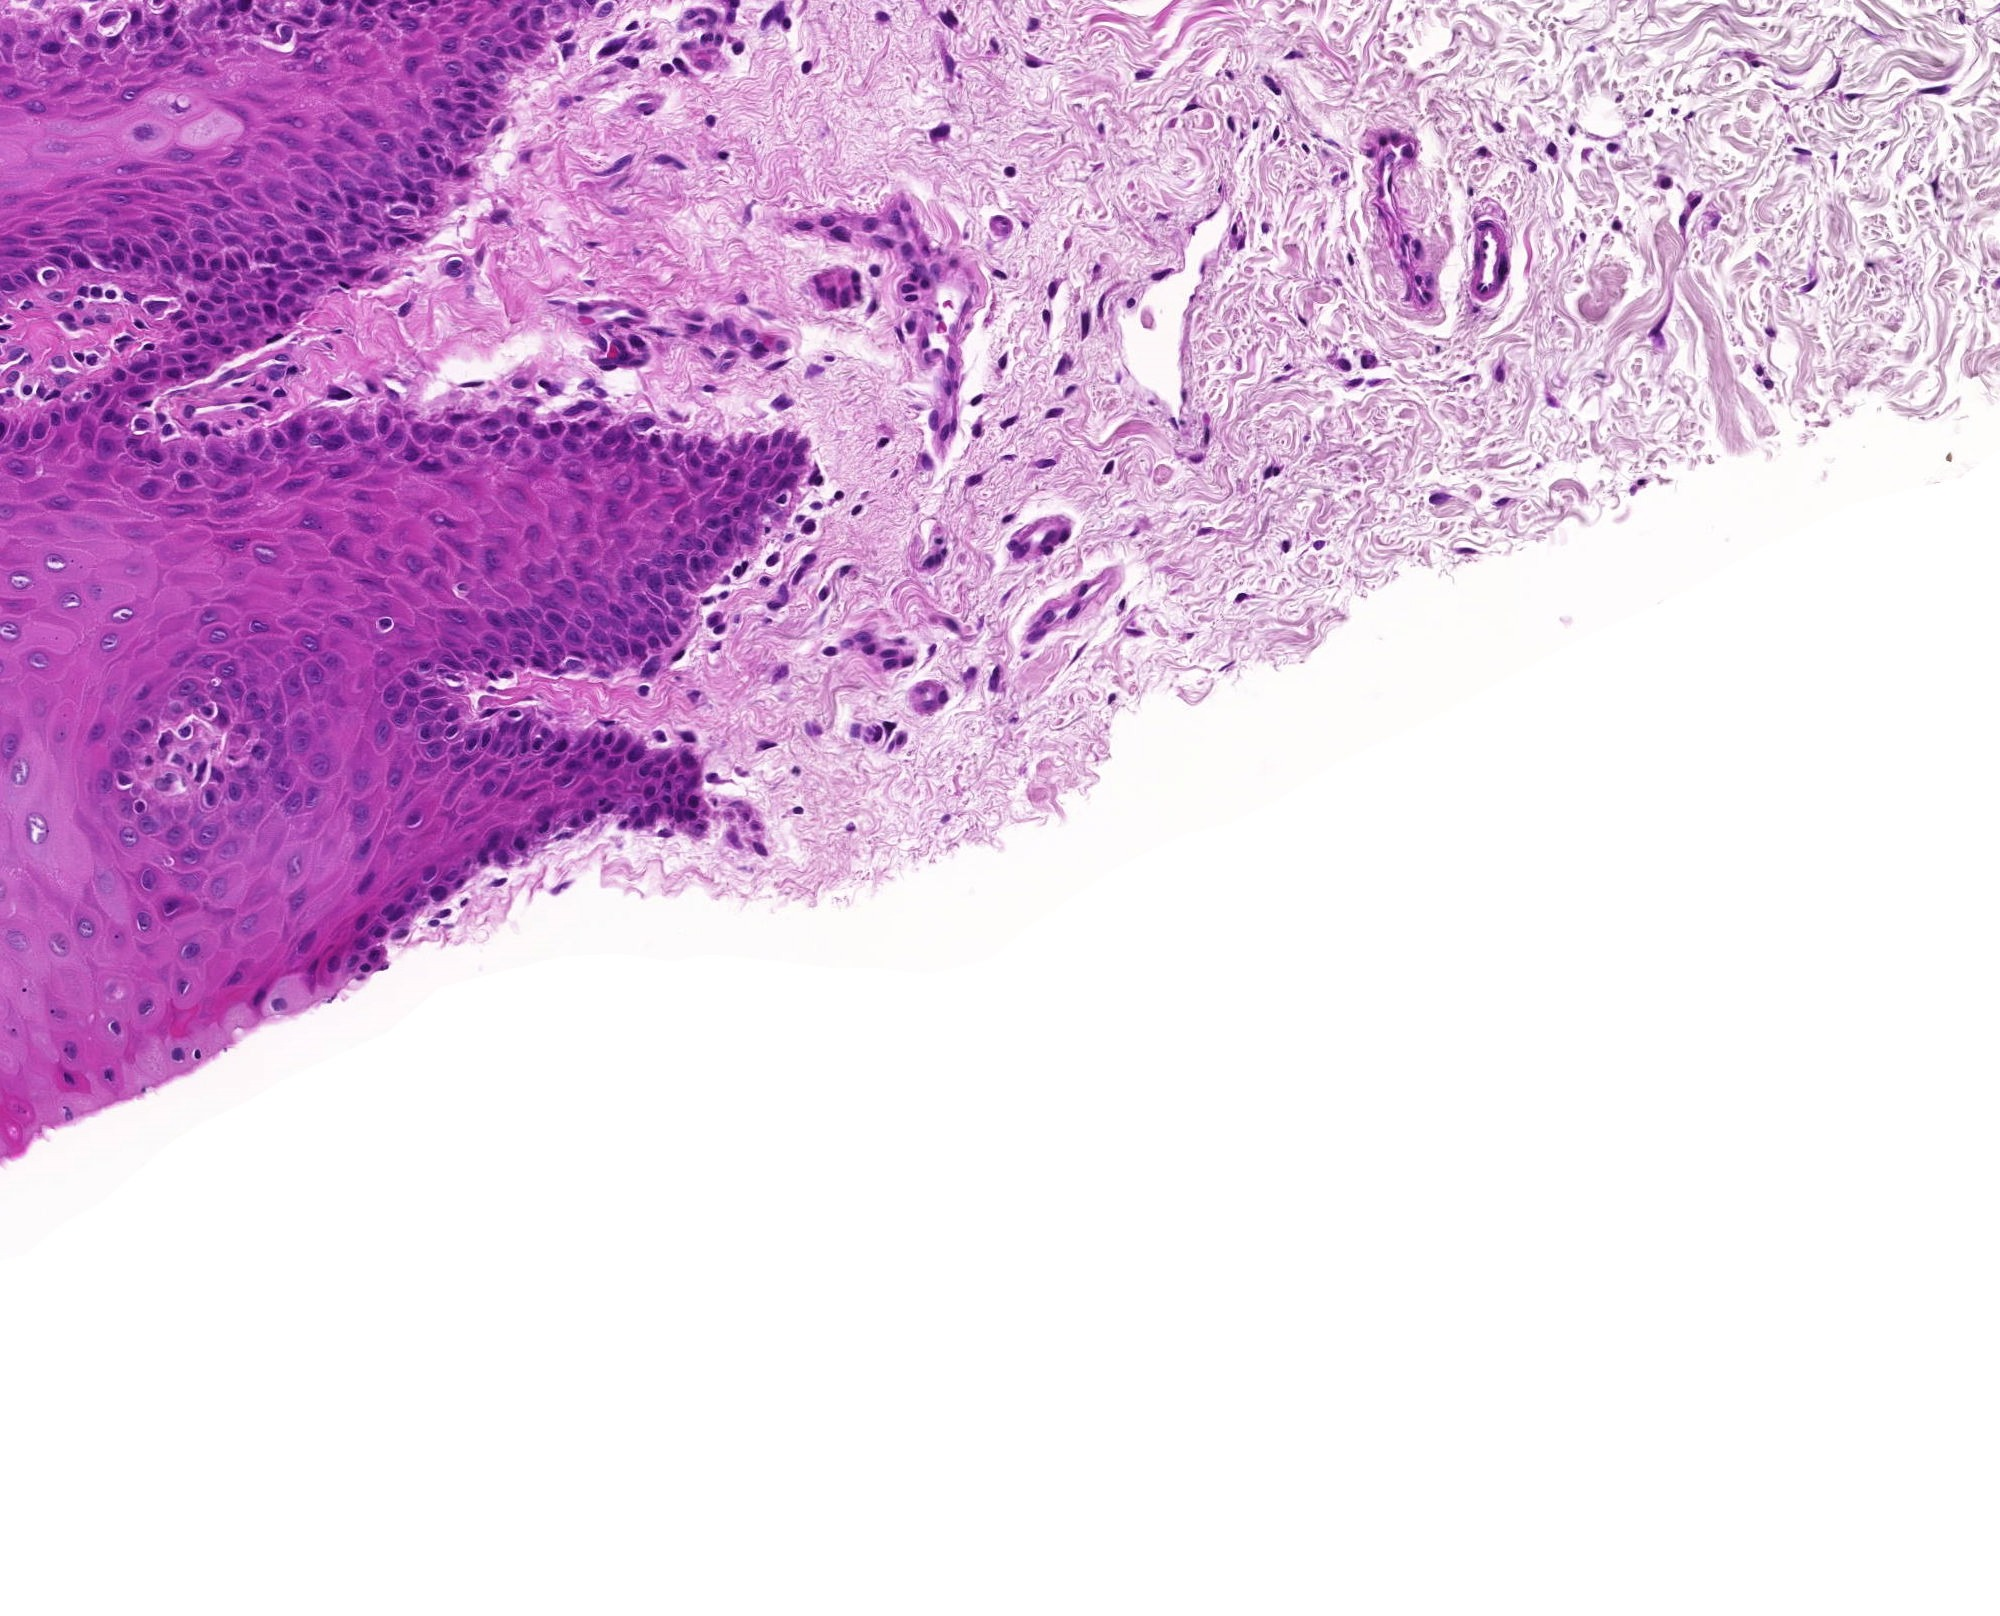epithelial: (125, 384, 160, 417), (257, 284, 290, 318), (477, 602, 509, 637), (157, 356, 190, 389), (425, 87, 458, 120), (96, 401, 129, 434), (170, 462, 203, 495), (424, 417, 457, 450), (120, 378, 153, 411), (173, 323, 206, 356), (102, 233, 135, 265), (270, 284, 303, 317), (82, 378, 115, 411), (280, 233, 313, 265), (91, 241, 124, 274), (198, 247, 231, 280), (185, 302, 218, 335), (473, 420, 506, 453), (340, 201, 373, 234), (411, 417, 444, 450), (350, 7, 383, 40), (186, 282, 219, 315), (219, 449, 252, 482), (452, 91, 485, 124), (308, 196, 341, 229), (290, 25, 323, 58), (163, 346, 196, 379), (262, 300, 295, 333), (373, 181, 406, 214), (228, 307, 261, 340), (124, 435, 157, 468), (229, 326, 262, 359), (64, 208, 97, 241), (201, 440, 234, 473), (109, 242, 142, 275), (180, 265, 213, 298), (115, 150, 148, 183), (384, 195, 417, 228), (152, 2, 185, 35), (477, 33, 509, 66), (289, 419, 322, 452), (163, 139, 196, 171), (251, 275, 284, 308), (91, 391, 124, 424), (41, 411, 74, 444), (170, 312, 203, 345), (439, 115, 472, 148), (259, 214, 292, 247), (115, 229, 148, 262), (16, 16, 49, 49), (468, 722, 501, 755), (378, 897, 411, 930), (350, 866, 383, 899), (293, 505, 326, 538), (290, 923, 323, 956), (358, 938, 391, 971), (218, 775, 251, 808), (477, 650, 509, 683), (412, 856, 445, 889), (175, 838, 208, 871), (463, 637, 496, 669), (345, 927, 378, 960), (297, 950, 330, 983), (130, 806, 163, 839), (340, 947, 373, 979), (439, 861, 472, 894), (368, 645, 401, 678), (346, 914, 379, 947), (472, 696, 505, 729), (354, 910, 387, 943), (407, 750, 440, 783), (468, 707, 501, 740), (458, 739, 491, 772), (115, 721, 148, 754), (285, 722, 318, 755), (425, 691, 458, 724), (358, 923, 391, 956), (458, 648, 491, 681), (605, 420, 638, 453), (557, 412, 590, 445), (513, 26, 546, 59), (625, 439, 658, 472), (905, 264, 938, 297), (823, 280, 856, 313), (762, 420, 795, 453), (772, 424, 805, 457), (767, 473, 800, 506), (673, 429, 706, 462), (722, 445, 755, 478), (899, 257, 932, 290), (772, 439, 805, 472), (754, 458, 786, 491), (643, 434, 676, 467), (880, 203, 913, 236), (514, 12, 547, 45), (617, 427, 650, 460), (697, 435, 730, 468), (684, 546, 717, 579), (523, 643, 556, 676), (528, 806, 561, 839), (508, 711, 541, 744), (636, 795, 669, 828), (630, 754, 663, 787), (627, 805, 660, 838), (664, 780, 697, 813), (500, 706, 533, 739), (529, 796, 562, 829), (663, 543, 696, 575), (539, 602, 572, 635), (683, 528, 716, 561), (683, 810, 716, 843), (651, 518, 684, 551), (602, 740, 635, 773), (678, 551, 711, 584), (501, 628, 534, 661), (651, 622, 684, 655), (664, 500, 697, 533), (557, 646, 590, 679), (534, 552, 567, 585), (683, 796, 716, 829), (722, 516, 755, 549), (506, 618, 539, 651), (668, 567, 701, 600), (796, 712, 829, 745), (627, 641, 660, 674), (656, 571, 689, 604), (546, 651, 579, 684), (3, 262, 35, 297), (556, 427, 587, 462), (547, 417, 579, 452), (692, 440, 724, 475), (536, 722, 570, 754), (171, 453, 204, 485), (122, 241, 153, 274), (475, 407, 506, 440), (298, 219, 330, 252), (468, 49, 500, 82), (58, 396, 89, 429), (36, 31, 68, 64), (323, 457, 354, 490), (138, 440, 171, 472), (130, 356, 162, 389), (181, 244, 214, 275), (23, 414, 54, 447), (317, 252, 348, 285), (452, 424, 483, 457), (16, 214, 49, 246), (354, 178, 387, 209), (115, 356, 148, 388), (396, 48, 427, 81), (406, 135, 439, 167), (216, 247, 249, 279), (262, 424, 293, 457), (340, 257, 373, 289), (277, 468, 308, 501), (368, 407, 399, 440), (445, 155, 478, 186), (353, 231, 386, 262), (13, 257, 46, 289), (381, 223, 412, 256), (348, 101, 379, 134), (412, 119, 445, 150), (336, 186, 369, 218), (406, 171, 439, 203), (122, 350, 153, 383), (239, 425, 272, 457), (287, 190, 318, 223), (135, 13, 167, 46), (186, 219, 218, 252), (439, 442, 472, 473), (127, 117, 160, 148), (54, 244, 87, 275), (221, 297, 252, 330), (158, 249, 190, 282), (262, 224, 293, 257), (224, 244, 257, 275), (142, 289, 173, 322), (402, 444, 434, 477), (369, 127, 402, 158), (188, 350, 219, 383), (201, 280, 232, 313), (3, 236, 35, 269), (91, 429, 122, 462), (318, 180, 350, 213), (119, 2, 152, 33), (282, 3, 313, 36), (285, 36, 317, 69), (270, 16, 302, 49), (153, 18, 186, 49), (97, 25, 129, 58), (186, 412, 218, 445), (252, 252, 284, 285), (3, 453, 36, 485), (447, 2, 478, 35), (59, 3, 92, 35), (43, 425, 74, 458), (178, 53, 209, 86), (450, 68, 481, 101), (252, 204, 284, 237), (378, 422, 411, 453), (237, 297, 269, 330), (453, 79, 486, 110), (71, 419, 102, 452), (391, 168, 424, 200), (125, 407, 157, 440), (77, 453, 109, 486), (470, 28, 503, 59), (214, 224, 247, 256), (216, 142, 247, 175), (143, 45, 176, 76), (209, 335, 242, 366), (236, 181, 269, 213), (257, 310, 290, 341), (170, 246, 203, 277), (124, 363, 155, 396), (313, 244, 346, 275), (124, 20, 155, 53), (378, 211, 411, 242), (303, 49, 335, 82), (333, 241, 364, 274), (468, 87, 501, 119), (188, 294, 221, 325), (331, 223, 364, 254), (106, 181, 138, 213), (399, 91, 430, 124), (323, 259, 354, 292), (171, 356, 204, 388), (444, 124, 475, 157), (411, 147, 442, 180), (358, 412, 391, 444), (275, 115, 307, 148), (124, 10, 157, 41), (457, 115, 490, 147), (308, 425, 340, 458), (274, 104, 307, 135), (209, 445, 242, 477), (305, 226, 336, 259), (275, 425, 308, 457), (373, 416, 404, 449), (297, 264, 328, 297), (307, 256, 340, 287), (110, 373, 143, 404), (147, 13, 180, 45), (284, 284, 315, 317), (223, 313, 256, 345), (480, 110, 513, 142), (330, 420, 363, 452), (434, 411, 465, 444), (333, 171, 364, 204), (181, 289, 213, 322), (186, 322, 219, 353), (429, 445, 460, 478), (41, 386, 73, 419), (358, 221, 389, 254), (387, 214, 419, 247), (290, 13, 323, 45), (477, 48, 509, 79), (345, 480, 378, 511), (429, 97, 460, 130), (419, 153, 452, 185), (401, 429, 432, 462), (414, 139, 445, 171), (157, 35, 188, 68), (313, 419, 346, 450), (153, 889, 186, 920), (325, 533, 358, 564), (223, 528, 254, 561), (435, 706, 467, 739), (396, 665, 427, 698), (242, 734, 274, 767), (363, 915, 396, 947), (127, 904, 158, 937), (81, 716, 114, 747), (282, 882, 313, 915), (132, 862, 163, 895), (411, 716, 442, 749), (345, 905, 378, 937), (472, 772, 505, 803), (195, 780, 226, 813), (148, 765, 181, 796), (475, 546, 506, 579), (193, 599, 224, 632), (201, 759, 232, 792), (351, 566, 384, 597), (364, 716, 397, 747), (407, 650, 440, 681), (397, 547, 429, 580), (317, 947, 348, 979), (379, 760, 411, 793), (297, 777, 328, 810), (68, 909, 99, 942), (417, 566, 448, 599), (430, 506, 463, 538), (158, 816, 190, 849), (348, 506, 379, 539), (350, 950, 383, 981), (148, 724, 180, 757), (477, 635, 508, 668), (394, 877, 425, 910), (439, 600, 472, 632), (470, 628, 503, 660), (190, 645, 221, 678), (472, 834, 505, 866), (345, 762, 376, 795), (170, 673, 203, 704), (117, 790, 150, 821), (315, 645, 346, 678), (308, 567, 340, 600), (298, 656, 330, 689), (277, 668, 308, 701), (242, 694, 274, 727), (249, 543, 280, 575), (477, 622, 508, 655), (20, 641, 53, 673), (244, 975, 275, 1008), (92, 625, 124, 658), (293, 961, 326, 993), (450, 643, 483, 674), (275, 851, 308, 882), (234, 767, 265, 800), (45, 927, 76, 960), (477, 729, 509, 760), (203, 674, 234, 707), (171, 866, 204, 897), (53, 1060, 84, 1093), (40, 996, 73, 1027), (53, 1097, 84, 1130), (696, 453, 727, 486), (506, 402, 539, 434), (541, 411, 572, 444), (640, 424, 671, 457), (567, 389, 600, 420), (607, 340, 640, 371), (585, 435, 617, 468), (706, 444, 739, 475), (650, 444, 683, 475), (559, 458, 590, 491), (505, 7, 536, 40), (740, 463, 773, 495), (663, 430, 694, 463), (716, 467, 749, 498), (607, 435, 638, 468), (603, 330, 636, 361), (508, 424, 539, 457), (505, 33, 538, 64), (679, 465, 712, 496), (628, 430, 661, 462), (734, 478, 765, 511), (725, 432, 758, 463), (630, 92, 661, 125), (531, 430, 562, 463), (500, 411, 531, 444), (516, 412, 547, 445), (747, 444, 778, 477), (758, 467, 791, 498), (648, 463, 679, 496), (772, 453, 803, 486), (734, 429, 767, 460), (625, 478, 656, 511), (678, 785, 711, 816), (521, 727, 552, 760), (633, 773, 664, 806), (638, 625, 669, 658), (590, 788, 622, 821), (702, 531, 735, 562), (673, 744, 704, 777), (622, 633, 655, 665), (603, 729, 636, 760), (547, 763, 580, 795), (595, 747, 628, 778), (660, 796, 691, 829), (607, 633, 638, 666), (651, 768, 683, 801), (590, 722, 623, 754), (656, 750, 688, 783), (676, 763, 707, 796), (646, 740, 678, 773), (539, 737, 572, 768), (509, 730, 542, 762), (623, 613, 656, 645), (656, 613, 689, 645), (730, 521, 762, 554), (562, 506, 595, 538), (528, 719, 561, 750), (650, 780, 683, 811), (557, 622, 590, 653), (618, 796, 651, 828), (623, 556, 656, 587), (564, 637, 595, 669), (562, 554, 595, 585), (640, 757, 673, 788), (602, 594, 633, 627), (608, 567, 641, 599), (668, 755, 701, 787), (570, 773, 603, 805), (635, 610, 668, 641), (673, 524, 704, 557), (514, 557, 546, 590), (508, 602, 541, 633), (664, 556, 697, 587), (765, 656, 796, 689), (645, 544, 678, 575), (514, 717, 546, 750), (585, 656, 618, 688), (717, 821, 749, 854), (519, 811, 551, 844), (631, 561, 663, 594), (566, 607, 599, 638), (638, 745, 669, 778), (533, 585, 564, 618), (574, 579, 607, 610), (628, 792, 661, 823), (599, 627, 631, 658), (627, 742, 660, 773), (661, 740, 692, 773), (618, 727, 651, 759), (656, 763, 689, 795), (533, 637, 564, 669), (1365, 196, 1398, 228), (1698, 204, 1730, 237), (396, 181, 427, 213), (280, 414, 312, 445), (66, 246, 97, 277), (173, 341, 204, 373), (254, 295, 285, 326), (318, 427, 350, 458), (396, 437, 427, 468), (415, 450, 447, 482), (134, 473, 165, 505), (200, 323, 231, 355), (312, 3, 343, 35), (5, 422, 36, 453), (206, 186, 237, 218), (259, 241, 290, 272), (343, 417, 374, 449), (394, 7, 425, 38), (305, 237, 336, 269), (45, 237, 76, 269), (165, 303, 196, 335), (104, 359, 135, 391), (440, 402, 472, 434), (178, 348, 209, 379), (310, 411, 341, 442), (290, 247, 322, 279), (256, 269, 287, 300), (145, 206, 176, 237), (284, 272, 315, 303), (430, 152, 462, 183), (176, 282, 208, 313), (152, 219, 183, 251), (117, 425, 148, 457), (473, 71, 505, 102), (135, 346, 167, 378), (330, 119, 361, 150), (412, 181, 444, 213), (437, 53, 468, 84), (354, 437, 386, 468), (162, 26, 193, 58), (270, 251, 302, 282), (402, 416, 434, 447), (45, 247, 76, 279), (333, 211, 364, 242), (434, 109, 465, 140), (58, 221, 89, 252), (480, 201, 511, 233), (54, 71, 86, 102), (257, 175, 289, 206), (28, 407, 59, 439), (209, 265, 241, 297), (0, 74, 31, 106), (129, 236, 160, 267), (290, 0, 322, 31), (140, 171, 171, 203), (363, 155, 394, 186), (183, 195, 214, 226), (445, 468, 477, 500), (350, 427, 381, 458), (214, 257, 246, 289), (234, 313, 265, 345), (274, 300, 305, 331), (458, 726, 490, 757), (176, 933, 208, 965), (467, 841, 498, 872), (424, 877, 455, 909), (477, 826, 508, 857), (219, 961, 251, 993), (445, 745, 477, 777), (419, 732, 450, 763), (350, 831, 381, 862), (397, 801, 429, 833), (226, 714, 257, 745), (242, 610, 274, 641), (330, 605, 361, 637), (366, 539, 397, 571), (165, 970, 196, 1001), (345, 796, 376, 828), (419, 684, 450, 716), (107, 760, 138, 792), (374, 679, 406, 711), (445, 533, 477, 564), (468, 745, 500, 777), (435, 646, 467, 678), (228, 755, 259, 787), (424, 539, 455, 571), (394, 684, 425, 716), (89, 767, 120, 798), (195, 816, 226, 848), (213, 655, 244, 686), (214, 674, 246, 706), (399, 886, 430, 917), (104, 742, 135, 773), (265, 763, 297, 795), (445, 734, 477, 765), (305, 749, 336, 780), (275, 607, 307, 638), (277, 785, 308, 816), (165, 641, 196, 673), (378, 826, 409, 857), (53, 580, 84, 612), (110, 821, 142, 853), (176, 679, 208, 711), (204, 620, 236, 651), (203, 869, 234, 900), (160, 694, 191, 726), (435, 775, 467, 806), (221, 767, 252, 798), (120, 518, 152, 549), (232, 907, 264, 938), (54, 1034, 86, 1065), (92, 1059, 124, 1090), (721, 458, 752, 490), (577, 409, 608, 440), (770, 465, 801, 496), (594, 422, 625, 453), (745, 430, 777, 462), (689, 432, 721, 463), (524, 417, 556, 449), (765, 445, 796, 477), (678, 445, 709, 477), (655, 427, 686, 458), (783, 435, 815, 467), (630, 407, 661, 439), (815, 277, 846, 308), (714, 477, 745, 508), (521, 2, 552, 33), (711, 315, 742, 346), (780, 449, 811, 480), (585, 326, 617, 358), (509, 434, 541, 465), (706, 453, 737, 485), (516, 457, 547, 488), (607, 472, 638, 503), (732, 196, 763, 228), (618, 739, 650, 770), (546, 729, 577, 760), (505, 828, 536, 859), (557, 749, 589, 780), (574, 800, 605, 831), (699, 506, 730, 538), (638, 567, 669, 599), (534, 745, 566, 777), (711, 519, 742, 551), (661, 562, 692, 594), (653, 790, 684, 821), (559, 806, 590, 838), (580, 729, 612, 760), (503, 645, 534, 676), (658, 582, 689, 613), (541, 633, 572, 665), (509, 778, 541, 810), (531, 617, 562, 648), (549, 572, 580, 604), (666, 599, 697, 630), (669, 772, 701, 803), (580, 638, 612, 669), (608, 521, 640, 552), (584, 622, 615, 653), (564, 742, 595, 773), (566, 730, 597, 762), (625, 584, 656, 615), (641, 782, 673, 813), (666, 534, 697, 566), (242, 241, 275, 270), (134, 336, 163, 369), (307, 147, 340, 176), (20, 91, 49, 124), (277, 292, 310, 322), (213, 282, 242, 315), (115, 78, 148, 107), (340, 45, 373, 74), (336, 124, 369, 153), (290, 228, 323, 257), (208, 701, 237, 734), (369, 607, 402, 637), (297, 627, 326, 660), (241, 796, 270, 829), (101, 1009, 130, 1042), (590, 350, 623, 379), (749, 453, 778, 486), (721, 496, 750, 529), (505, 701, 538, 730), (570, 533, 603, 562), (186, 261, 218, 290), (175, 444, 206, 473), (434, 31, 463, 63), (40, 402, 69, 434), (439, 251, 468, 282), (224, 477, 256, 506), (73, 45, 102, 76), (208, 7, 237, 38), (414, 678, 445, 707), (129, 678, 158, 709), (384, 701, 415, 730), (236, 683, 267, 712), (38, 543, 69, 572), (129, 993, 160, 1022), (501, 477, 533, 506), (671, 800, 702, 829), (582, 739, 613, 768), (518, 518, 547, 549), (709, 505, 740, 534), (500, 604, 529, 635), (678, 541, 707, 572), (1466, 274, 1497, 303), (129, 711, 158, 740), (533, 734, 562, 763)
fibroblast and endothelial: (757, 589, 791, 622), (836, 627, 871, 660), (275, 353, 308, 386), (68, 274, 101, 307), (10, 289, 43, 322), (106, 325, 138, 358), (259, 363, 292, 396), (74, 303, 107, 336), (261, 350, 293, 383), (74, 25, 107, 58), (71, 290, 104, 323), (162, 742, 195, 775), (181, 1037, 214, 1070), (823, 218, 856, 251), (595, 31, 628, 64), (923, 115, 956, 148), (651, 51, 684, 84), (529, 368, 562, 401), (664, 49, 697, 82), (800, 462, 833, 495), (706, 139, 739, 171), (607, 303, 640, 336), (569, 290, 602, 323), (579, 371, 612, 404), (607, 145, 640, 178), (686, 25, 719, 58), (933, 369, 966, 402), (935, 407, 968, 440), (890, 233, 923, 265), (603, 313, 636, 346), (589, 36, 622, 69), (712, 340, 745, 373), (833, 280, 866, 313), (679, 302, 712, 335), (599, 150, 631, 183), (688, 48, 721, 81), (509, 139, 542, 171), (607, 49, 640, 82), (937, 246, 969, 279), (618, 308, 651, 341), (887, 645, 920, 678), (791, 510, 824, 543), (782, 557, 815, 590), (749, 562, 782, 595), (763, 580, 796, 613), (737, 806, 770, 839), (707, 575, 740, 608), (542, 871, 575, 904), (905, 673, 938, 706), (1350, 345, 1383, 378), (1115, 285, 1148, 318), (1031, 298, 1063, 331), (1339, 346, 1372, 379), (1466, 134, 1499, 167), (1410, 280, 1443, 313), (1378, 120, 1411, 153), (1334, 242, 1367, 275), (1378, 130, 1411, 163), (1355, 364, 1388, 397), (1372, 147, 1405, 180), (1078, 252, 1111, 285), (1167, 378, 1200, 411), (1021, 617, 1054, 650), (1303, 528, 1336, 561), (1027, 608, 1060, 641), (1919, 73, 1952, 106), (1678, 185, 1711, 218), (1749, 364, 1782, 397), (1792, 269, 1825, 302), (1853, 247, 1886, 280), (1659, 96, 1692, 129), (1565, 219, 1598, 252), (1533, 384, 1566, 417), (168, 1037, 203, 1069), (628, 28, 663, 59), (674, 46, 709, 78), (1667, 201, 1698, 236), (91, 277, 124, 308), (326, 378, 358, 411), (68, 340, 99, 373), (399, 219, 430, 252), (363, 259, 396, 290), (53, 303, 84, 336), (86, 302, 117, 335), (249, 388, 280, 420), (114, 280, 147, 312), (257, 322, 290, 353), (251, 373, 284, 404), (92, 2, 124, 35), (356, 369, 387, 402), (76, 343, 109, 374), (457, 368, 490, 399), (26, 376, 59, 407), (265, 340, 297, 373), (328, 269, 359, 302), (152, 412, 183, 445), (76, 3, 109, 35), (8, 341, 40, 374), (378, 376, 409, 409), (7, 374, 40, 406), (386, 917, 419, 948), (171, 749, 204, 780), (950, 412, 983, 444), (615, 45, 646, 78), (894, 279, 927, 310), (958, 463, 989, 496), (622, 345, 653, 378), (697, 23, 730, 54), (790, 51, 823, 82), (810, 204, 843, 236), (841, 274, 872, 307), (852, 208, 885, 239), (551, 35, 584, 66), (933, 3, 966, 35), (767, 384, 798, 417), (692, 373, 725, 404), (547, 21, 580, 53), (513, 366, 546, 397), (752, 331, 785, 363), (801, 211, 834, 242), (516, 384, 547, 417), (557, 392, 589, 425), (691, 335, 722, 368), (866, 2, 899, 33), (643, 313, 674, 346), (660, 147, 691, 180), (763, 330, 796, 361), (725, 282, 758, 313), (910, 444, 941, 477), (918, 402, 950, 435), (913, 261, 946, 292), (575, 228, 608, 259), (635, 414, 668, 445), (818, 209, 849, 242), (709, 26, 740, 59), (697, 3, 730, 35), (915, 340, 946, 373), (829, 270, 862, 302), (552, 84, 585, 115), (630, 323, 663, 355), (813, 341, 844, 374), (918, 544, 951, 575), (852, 628, 884, 661), (874, 640, 905, 673), (648, 816, 679, 849), (701, 608, 732, 641), (927, 679, 958, 712), (790, 546, 823, 577), (627, 674, 660, 706), (923, 531, 955, 564), (806, 577, 839, 608), (744, 833, 777, 864), (829, 552, 861, 585), (643, 719, 676, 750), (879, 630, 912, 661), (955, 656, 988, 688), (697, 760, 729, 793), (740, 821, 772, 854), (610, 806, 641, 839), (674, 732, 706, 765), (547, 818, 579, 851), (876, 711, 908, 742), (780, 754, 811, 787), (917, 633, 948, 666), (775, 519, 806, 552), (879, 727, 912, 759), (628, 661, 660, 694), (696, 599, 727, 632), (867, 632, 900, 663), (785, 503, 818, 534), (1369, 124, 1401, 155), (1143, 259, 1176, 290), (1068, 307, 1101, 338), (1327, 348, 1360, 379), (1339, 364, 1370, 397), (994, 153, 1026, 186), (1092, 452, 1124, 483), (1228, 107, 1261, 139), (1393, 135, 1425, 168), (1124, 59, 1157, 91), (1016, 46, 1049, 78), (1035, 272, 1068, 303), (1214, 107, 1246, 139), (1054, 373, 1087, 404), (1392, 224, 1425, 256), (1017, 7, 1049, 40), (1190, 419, 1222, 452), (1467, 218, 1499, 251), (1031, 445, 1062, 478), (1403, 262, 1434, 295), (1220, 219, 1251, 252), (1364, 142, 1397, 173), (1354, 137, 1387, 168), (1373, 167, 1405, 200), (1181, 442, 1214, 473), (1250, 209, 1281, 242), (1466, 231, 1499, 262), (1286, 305, 1319, 336), (1326, 160, 1359, 191), (1214, 58, 1245, 91), (1159, 406, 1190, 439), (1458, 294, 1491, 325), (1101, 285, 1134, 317), (1454, 175, 1486, 208), (1449, 361, 1481, 394), (1009, 208, 1040, 241), (1360, 125, 1392, 158), (1034, 523, 1065, 556), (1223, 580, 1256, 612), (1024, 533, 1057, 564), (1057, 594, 1088, 627), (1270, 529, 1303, 561), (1449, 534, 1482, 566), (1002, 529, 1034, 562), (1044, 597, 1077, 628), (1067, 572, 1098, 605), (1032, 599, 1063, 632), (1062, 637, 1093, 669), (1172, 618, 1205, 650), (1044, 528, 1075, 561), (1487, 252, 1520, 284), (1817, 64, 1848, 97), (1649, 167, 1682, 198), (1599, 209, 1632, 241), (1744, 355, 1777, 386), (1596, 129, 1627, 162), (1919, 168, 1951, 201), (1535, 134, 1568, 165), (1555, 112, 1588, 143), (1515, 150, 1548, 181), (1736, 46, 1769, 78), (1946, 2, 1979, 33), (1674, 193, 1707, 224), (701, 630, 730, 665), (234, 391, 265, 422), (244, 379, 275, 411), (173, 394, 204, 425), (41, 280, 73, 312), (51, 284, 82, 315), (429, 897, 460, 928), (185, 754, 216, 785), (170, 716, 201, 747), (419, 905, 450, 937), (448, 886, 480, 917), (839, 265, 871, 297), (722, 31, 754, 63), (762, 350, 793, 381), (790, 209, 821, 241), (857, 290, 889, 322), (961, 414, 993, 445), (960, 384, 991, 416), (867, 425, 899, 457), (894, 308, 925, 340), (755, 3, 786, 35), (739, 325, 770, 356), (694, 104, 725, 135), (823, 478, 854, 510), (930, 416, 961, 447), (650, 143, 681, 175), (871, 226, 902, 257), (908, 328, 940, 359), (732, 318, 763, 350), (885, 317, 917, 348), (678, 310, 709, 341), (671, 30, 702, 61), (933, 48, 965, 79), (714, 2, 745, 33), (692, 13, 724, 45), (622, 298, 653, 330), (895, 267, 927, 298), (912, 233, 943, 264), (867, 712, 899, 744), (724, 554, 755, 585), (671, 719, 702, 750), (750, 729, 782, 760), (815, 635, 846, 666), (663, 640, 694, 671), (935, 608, 966, 640), (592, 707, 623, 739), (701, 580, 732, 612), (678, 679, 709, 711), (917, 688, 948, 719), (976, 660, 1007, 691), (879, 648, 910, 679), (839, 714, 871, 745), (841, 496, 872, 528), (660, 630, 691, 661), (834, 811, 866, 843), (1037, 397, 1068, 429), (1258, 71, 1289, 102), (994, 406, 1026, 437), (1256, 455, 1288, 486), (1278, 38, 1309, 69), (1047, 348, 1078, 379), (1176, 91, 1207, 122), (1260, 119, 1291, 150), (1421, 480, 1453, 511), (1387, 125, 1418, 157), (1085, 289, 1116, 320), (1085, 112, 1116, 143), (1413, 267, 1444, 298), (1195, 198, 1227, 229), (1047, 519, 1078, 551), (1106, 587, 1138, 618), (1189, 514, 1220, 546), (993, 501, 1024, 533), (1096, 681, 1128, 712), (1641, 313, 1672, 345), (1624, 467, 1655, 498), (1835, 81, 1866, 112), (1786, 135, 1817, 167), (1632, 97, 1664, 129), (1674, 101, 1705, 132), (20, 373, 49, 406), (387, 294, 420, 323), (618, 326, 651, 356), (857, 256, 890, 285), (767, 3, 796, 36), (617, 8, 646, 41), (605, 30, 638, 59), (805, 269, 834, 302), (884, 717, 913, 750), (861, 717, 890, 750), (782, 795, 815, 824), (846, 622, 879, 651), (1462, 241, 1495, 270), (1471, 208, 1500, 241), (1487, 482, 1520, 511), (81, 275, 110, 307), (38, 378, 69, 407), (213, 359, 242, 391), (744, 335, 773, 366), (503, 368, 534, 397), (937, 348, 966, 379), (633, 655, 664, 684), (1401, 233, 1433, 262), (1118, 617, 1149, 646), (1754, 317, 1786, 346), (1646, 307, 1675, 338), (993, 346, 1021, 378)
lymphocyte: (63, 285, 96, 318), (735, 547, 768, 580), (1238, 107, 1271, 140), (262, 376, 295, 407), (31, 259, 64, 290), (142, 404, 175, 435), (203, 412, 236, 444), (132, 744, 163, 777), (691, 584, 722, 617), (124, 308, 155, 340), (256, 10, 287, 41), (191, 694, 223, 726), (755, 543, 786, 574), (760, 564, 791, 595), (1289, 132, 1321, 163), (612, 20, 645, 49)
